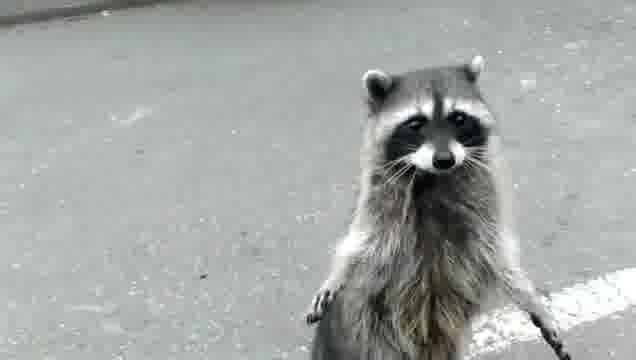raccoon: (307, 55, 571, 360)
